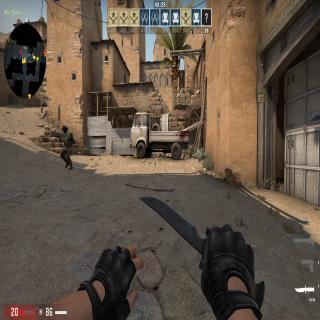CT-Body: (56, 124, 78, 171)
CT-Head: (61, 124, 68, 132)
